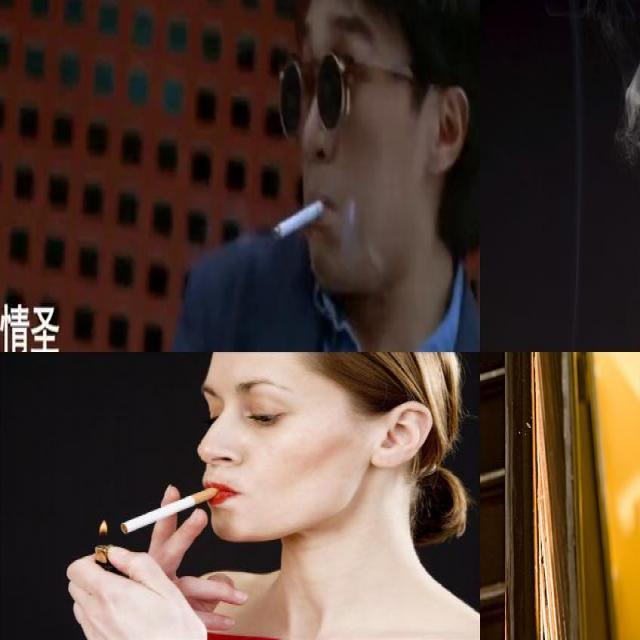smoke: (120, 486, 218, 537), (272, 198, 326, 240)
